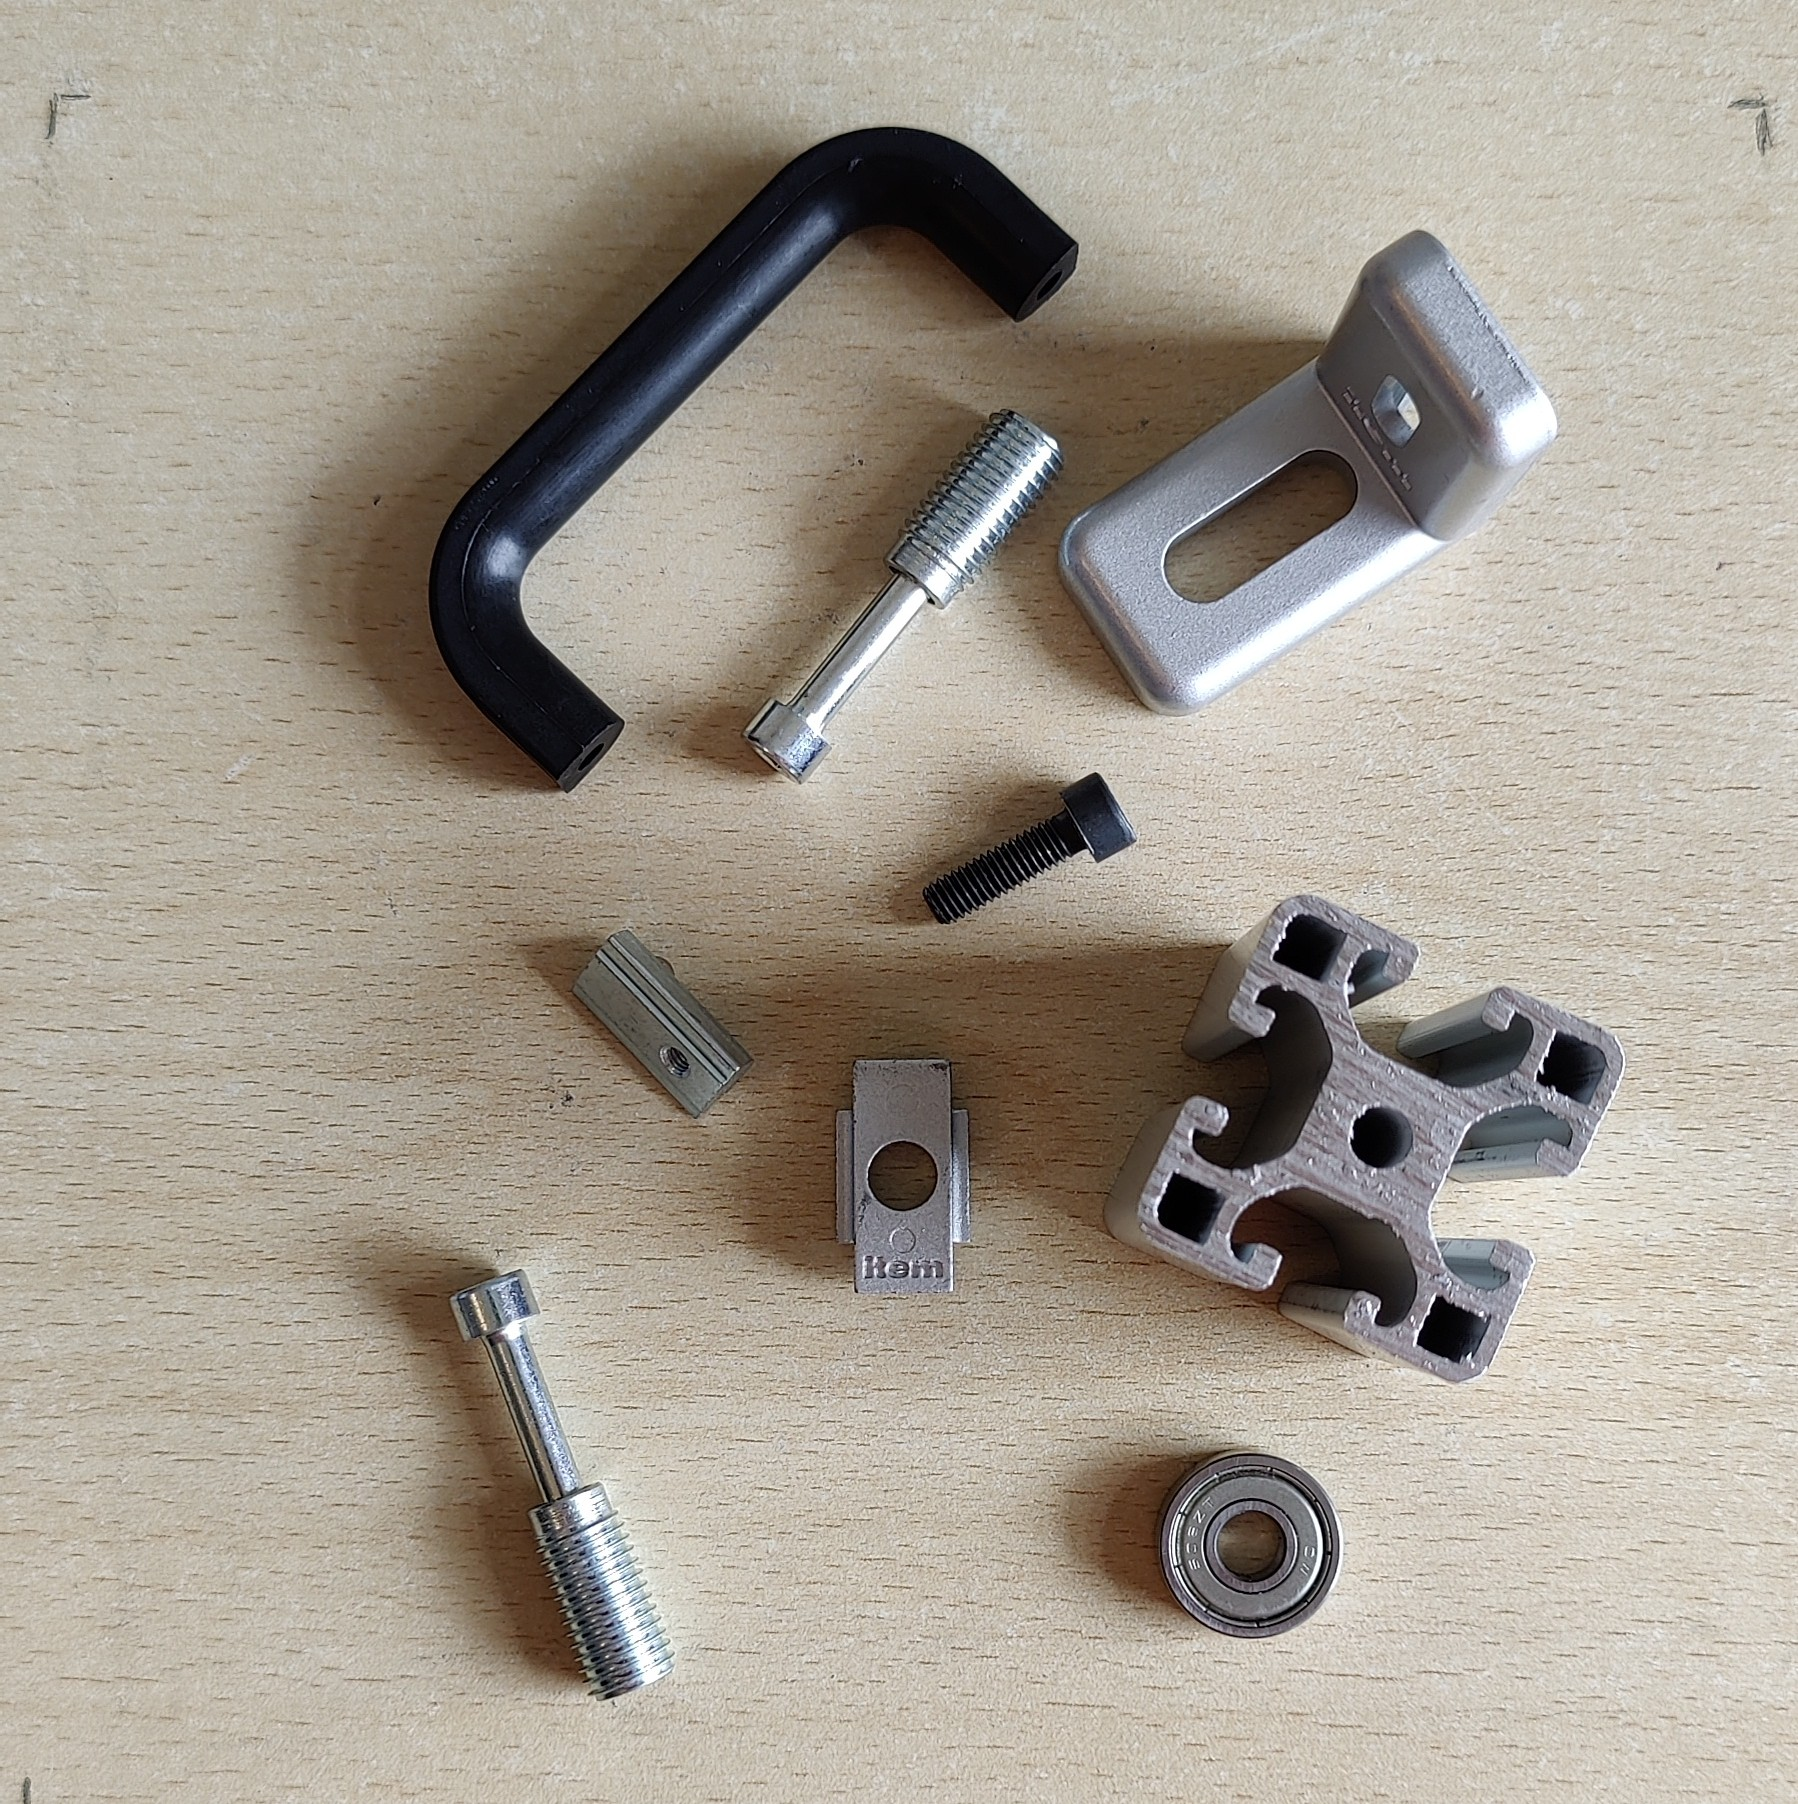Aluminium Extension: (1098, 890, 1628, 1386)
Ball Bearing: (1154, 1448, 1345, 1643)
Multiwinkel: (1052, 227, 1561, 718)
Pull Handle: (426, 122, 1080, 798)
Shoulder Socket Head Cap Screw: (738, 403, 1067, 788), (445, 1267, 678, 1705)
Socket Head Cap Screw: (919, 765, 1141, 927)
T Nut Square: (830, 1057, 975, 1295)
T Spring Nut: (566, 927, 759, 1123)
